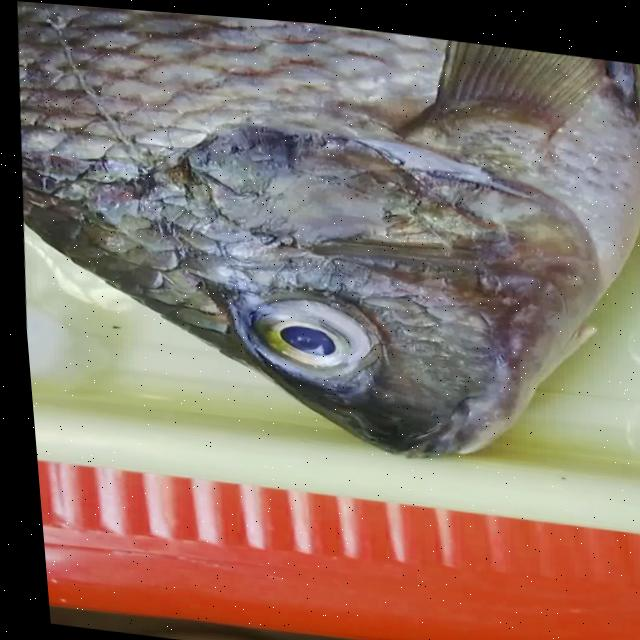Fresh: (9, 1, 559, 202), (187, 261, 401, 381)
